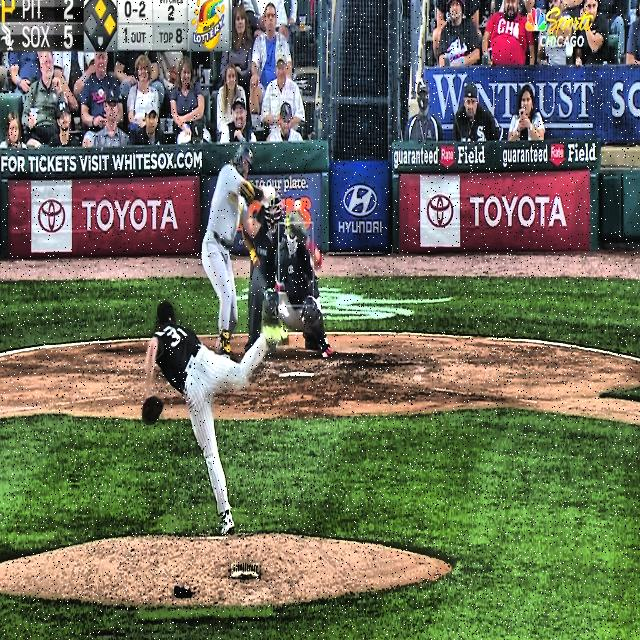baseball: (294, 199, 301, 211)
